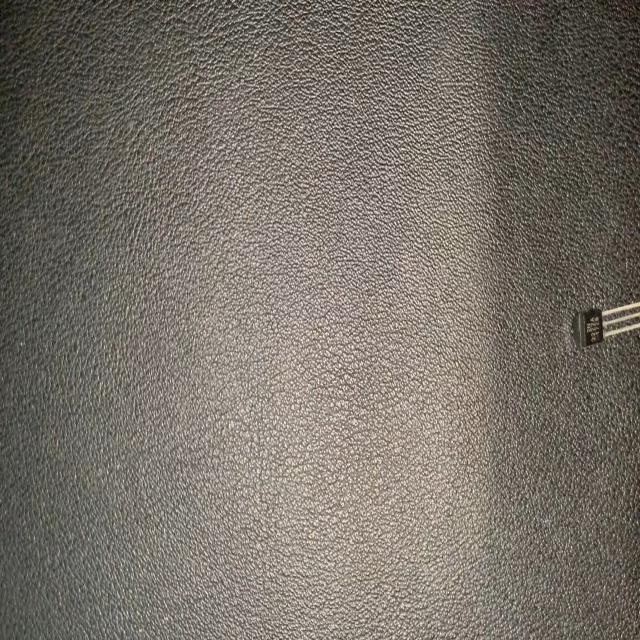BJT: (572, 304, 640, 351)
